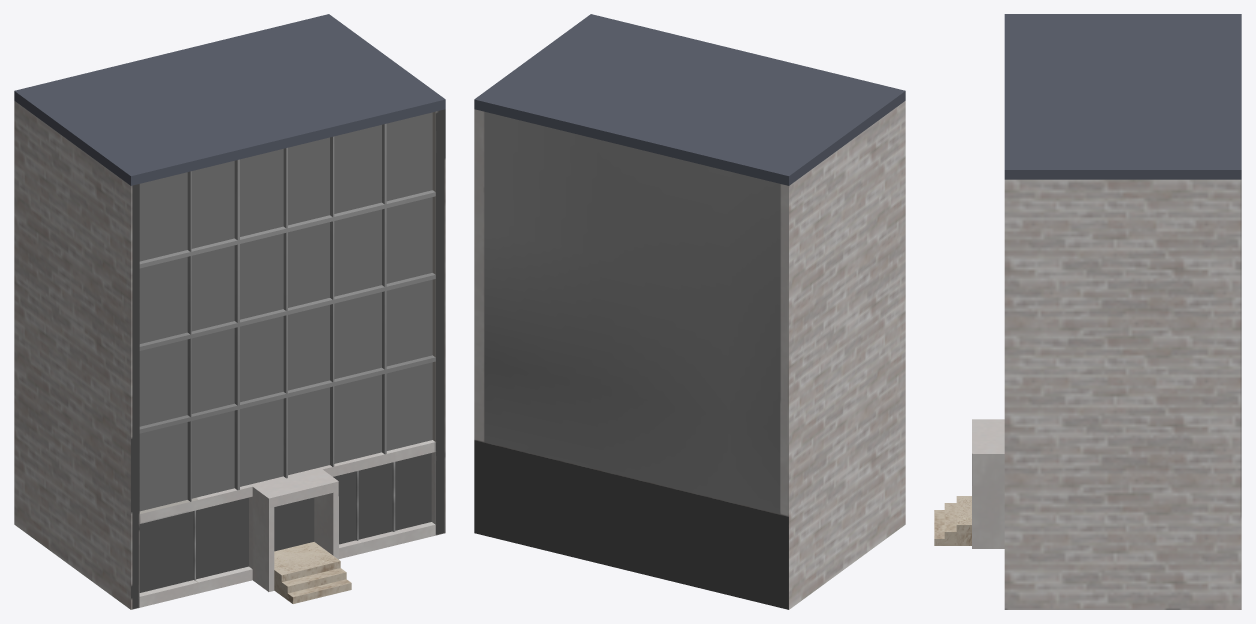
Rendered from Building.fbx.
3 renders of one model, left to right at view 1: azimuth 30°, elevation 25°; view 2: azimuth 150°, elevation 25°; view 3: azimuth 270°, elevation 25°, orthographic.
Visible parts, largest first — view 1: entrance, rooftop, rods, glass28, glass12, glass1, glass8, glass27, glass24, glass18, glass2, glass7 (+22 smaller); view 2: rods, entrance, rooftop; view 3: entrance, rooftop, stairs.
Boxes of the visible parts, x1,y1,x2,y2 form: entrance: (14, 101, 445, 609); rooftop: (14, 14, 445, 185); rods: (139, 123, 435, 501); glass28: (139, 172, 187, 261); glass12: (139, 422, 187, 511); glass1: (139, 511, 193, 592); glass8: (334, 374, 381, 463); glass27: (334, 125, 381, 213); glass24: (139, 339, 187, 426); glass18: (139, 257, 187, 343); glass2: (196, 497, 248, 579); glass7: (386, 362, 432, 450); rods: (484, 111, 780, 513); entrance: (474, 101, 905, 609); rooftop: (474, 14, 905, 185); entrance: (972, 179, 1241, 609); rooftop: (1004, 14, 1241, 179); stairs: (934, 496, 971, 545).
Size of the model in its own units: 1595 by 2100 by 1330.
7 materials, 7 textured.
